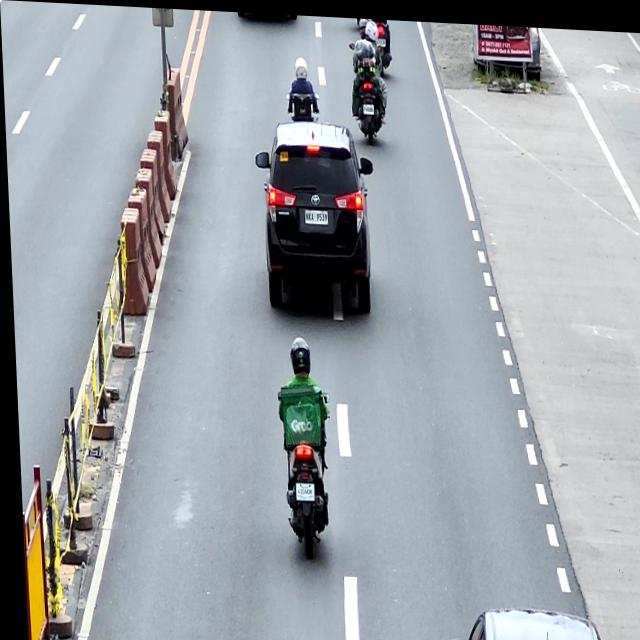Car: (253, 115, 377, 310), (432, 601, 625, 640)
License-Plate: (302, 206, 327, 221), (291, 479, 310, 498), (362, 100, 373, 110), (376, 33, 386, 44)
Motorcycle: (274, 385, 331, 556), (348, 39, 388, 143), (371, 15, 392, 76), (285, 88, 320, 120)
